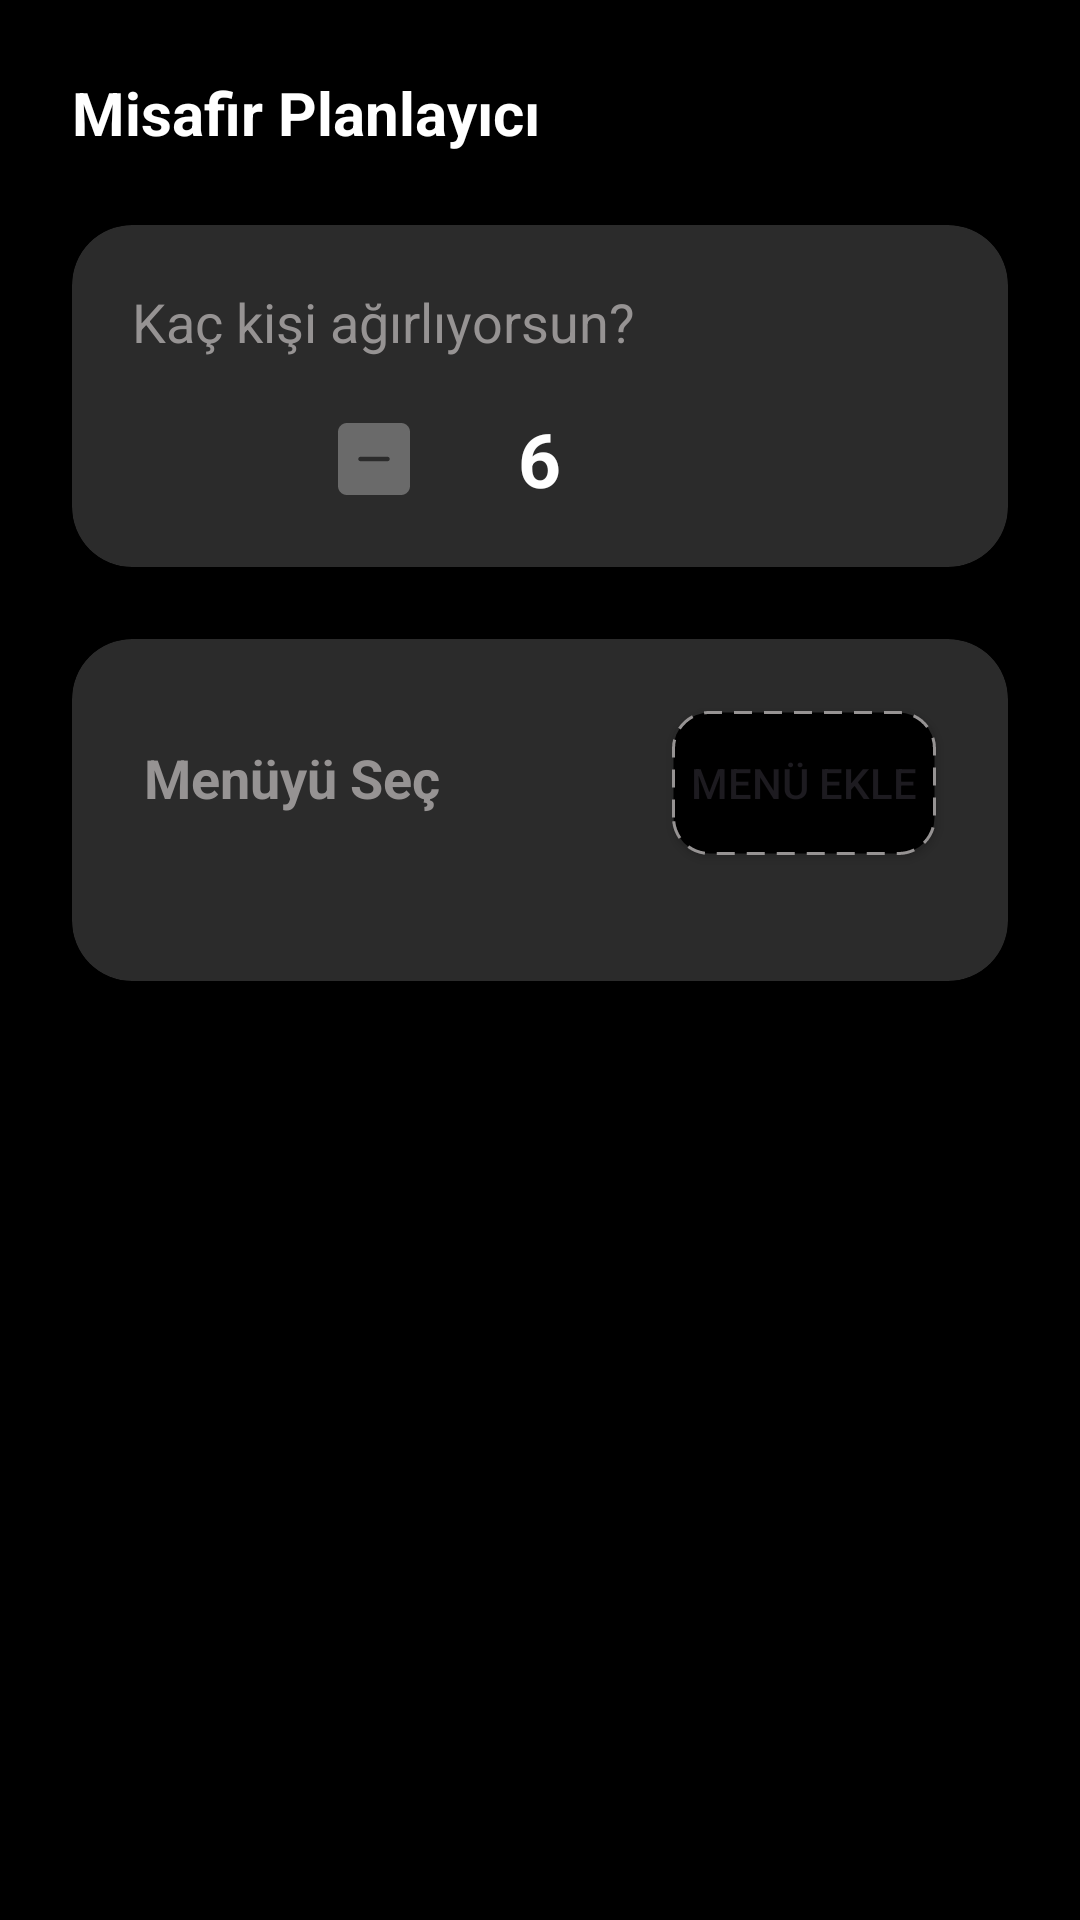

Icon click points for this 1080px×1920px phone screenshot, format (x=x, y=y):
eksi: (x=374, y=459)
